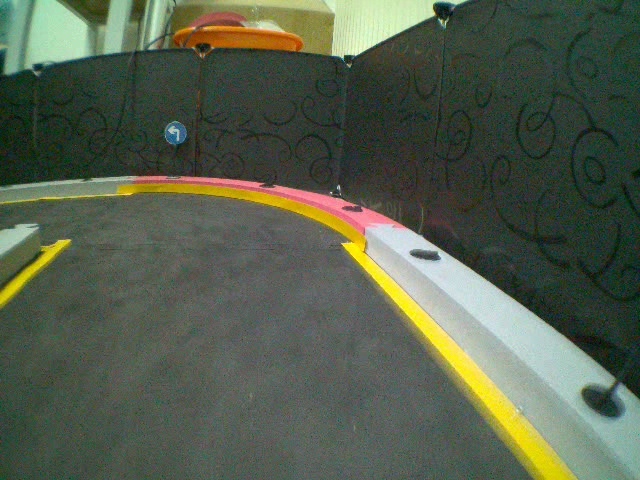turn: (163, 121, 188, 146)
